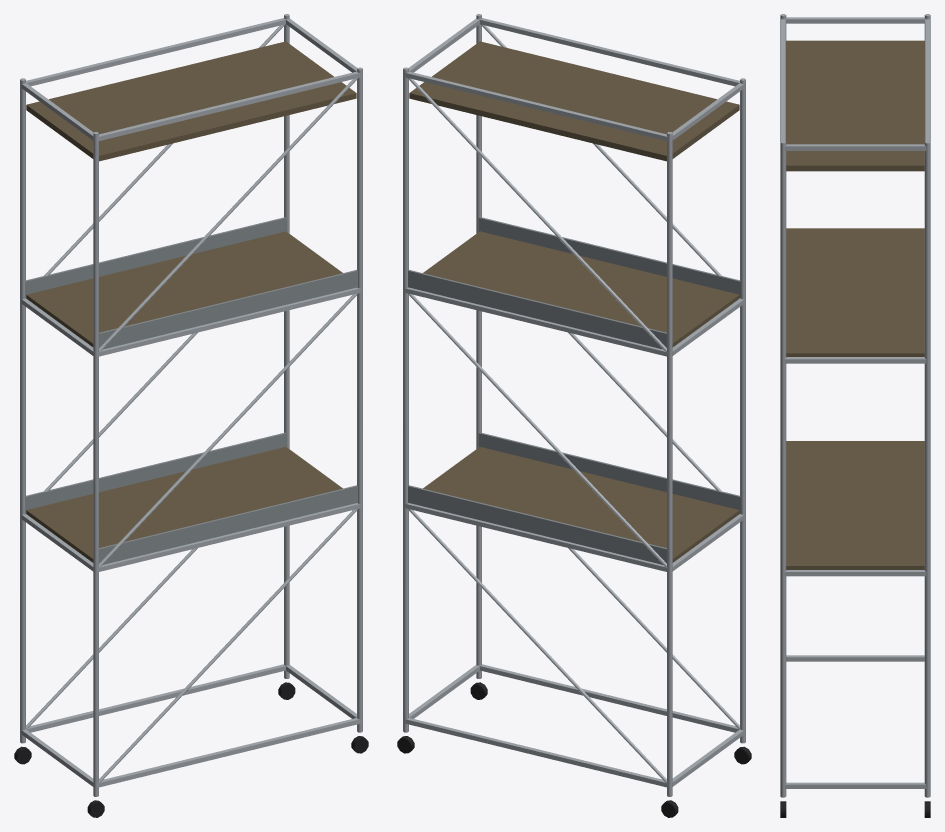
The model's file is SCAFFOLD.glb.
3 views of the same model, side by side, from view 1: azimuth 30°, elevation 25°; view 2: azimuth 150°, elevation 25°; view 3: azimuth 270°, elevation 25° (orthographic).
Parts seen in each view (by area): view 1: timber_2, steel_0, paint_3, tread_1; view 2: timber_2, steel_0, paint_3, tread_1; view 3: timber_2, steel_0.
Boxes of the visible parts, x1,y1,x2,y2 form: timber_2: (26,41,356,562); steel_0: (20,14,362,796); paint_3: (25,217,357,564); tread_1: (14,682,368,817); timber_2: (409,41,739,562); steel_0: (403,14,745,796); paint_3: (408,217,740,564); tread_1: (397,682,751,817); timber_2: (785,40,925,569); steel_0: (780,14,930,797).
Size of the model in its own units: 2.63 by 6.19 by 1.25.
